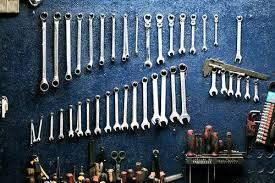wrench: (37, 9, 49, 92), (49, 10, 61, 87), (62, 10, 72, 81), (245, 108, 260, 155), (72, 11, 83, 75), (84, 11, 95, 70), (95, 12, 105, 66), (119, 12, 130, 60), (109, 11, 116, 61), (132, 13, 139, 56)
